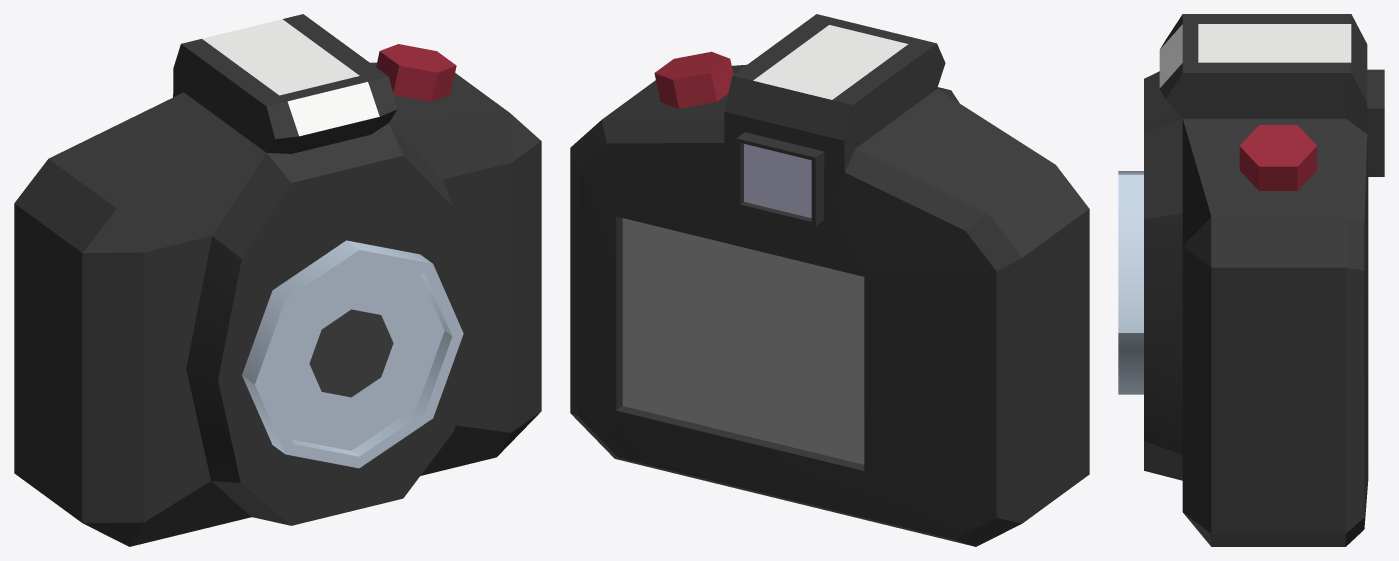
File: Camera-DSLR_01.fbx
The picture shows the model from 3 angles, left to right: view 1: azimuth 30°, elevation 25°; view 2: azimuth 150°, elevation 25°; view 3: azimuth 270°, elevation 25°; orthographic projection.
Parts seen in each view (by area): view 1: DSLR_Camera; view 2: DSLR_Camera, DSLR_Camera_Display_4x3; view 3: DSLR_Camera.
Part boxes in pixels (box(x1,y1,x2,y2)): DSLR_Camera: box(14, 14, 541, 546); DSLR_Camera: box(570, 14, 1089, 546); DSLR_Camera_Display_4x3: box(622, 218, 864, 464); DSLR_Camera: box(1118, 14, 1384, 546).
Size of the model in its own units: 0.1707 by 0.1496 by 0.087.
